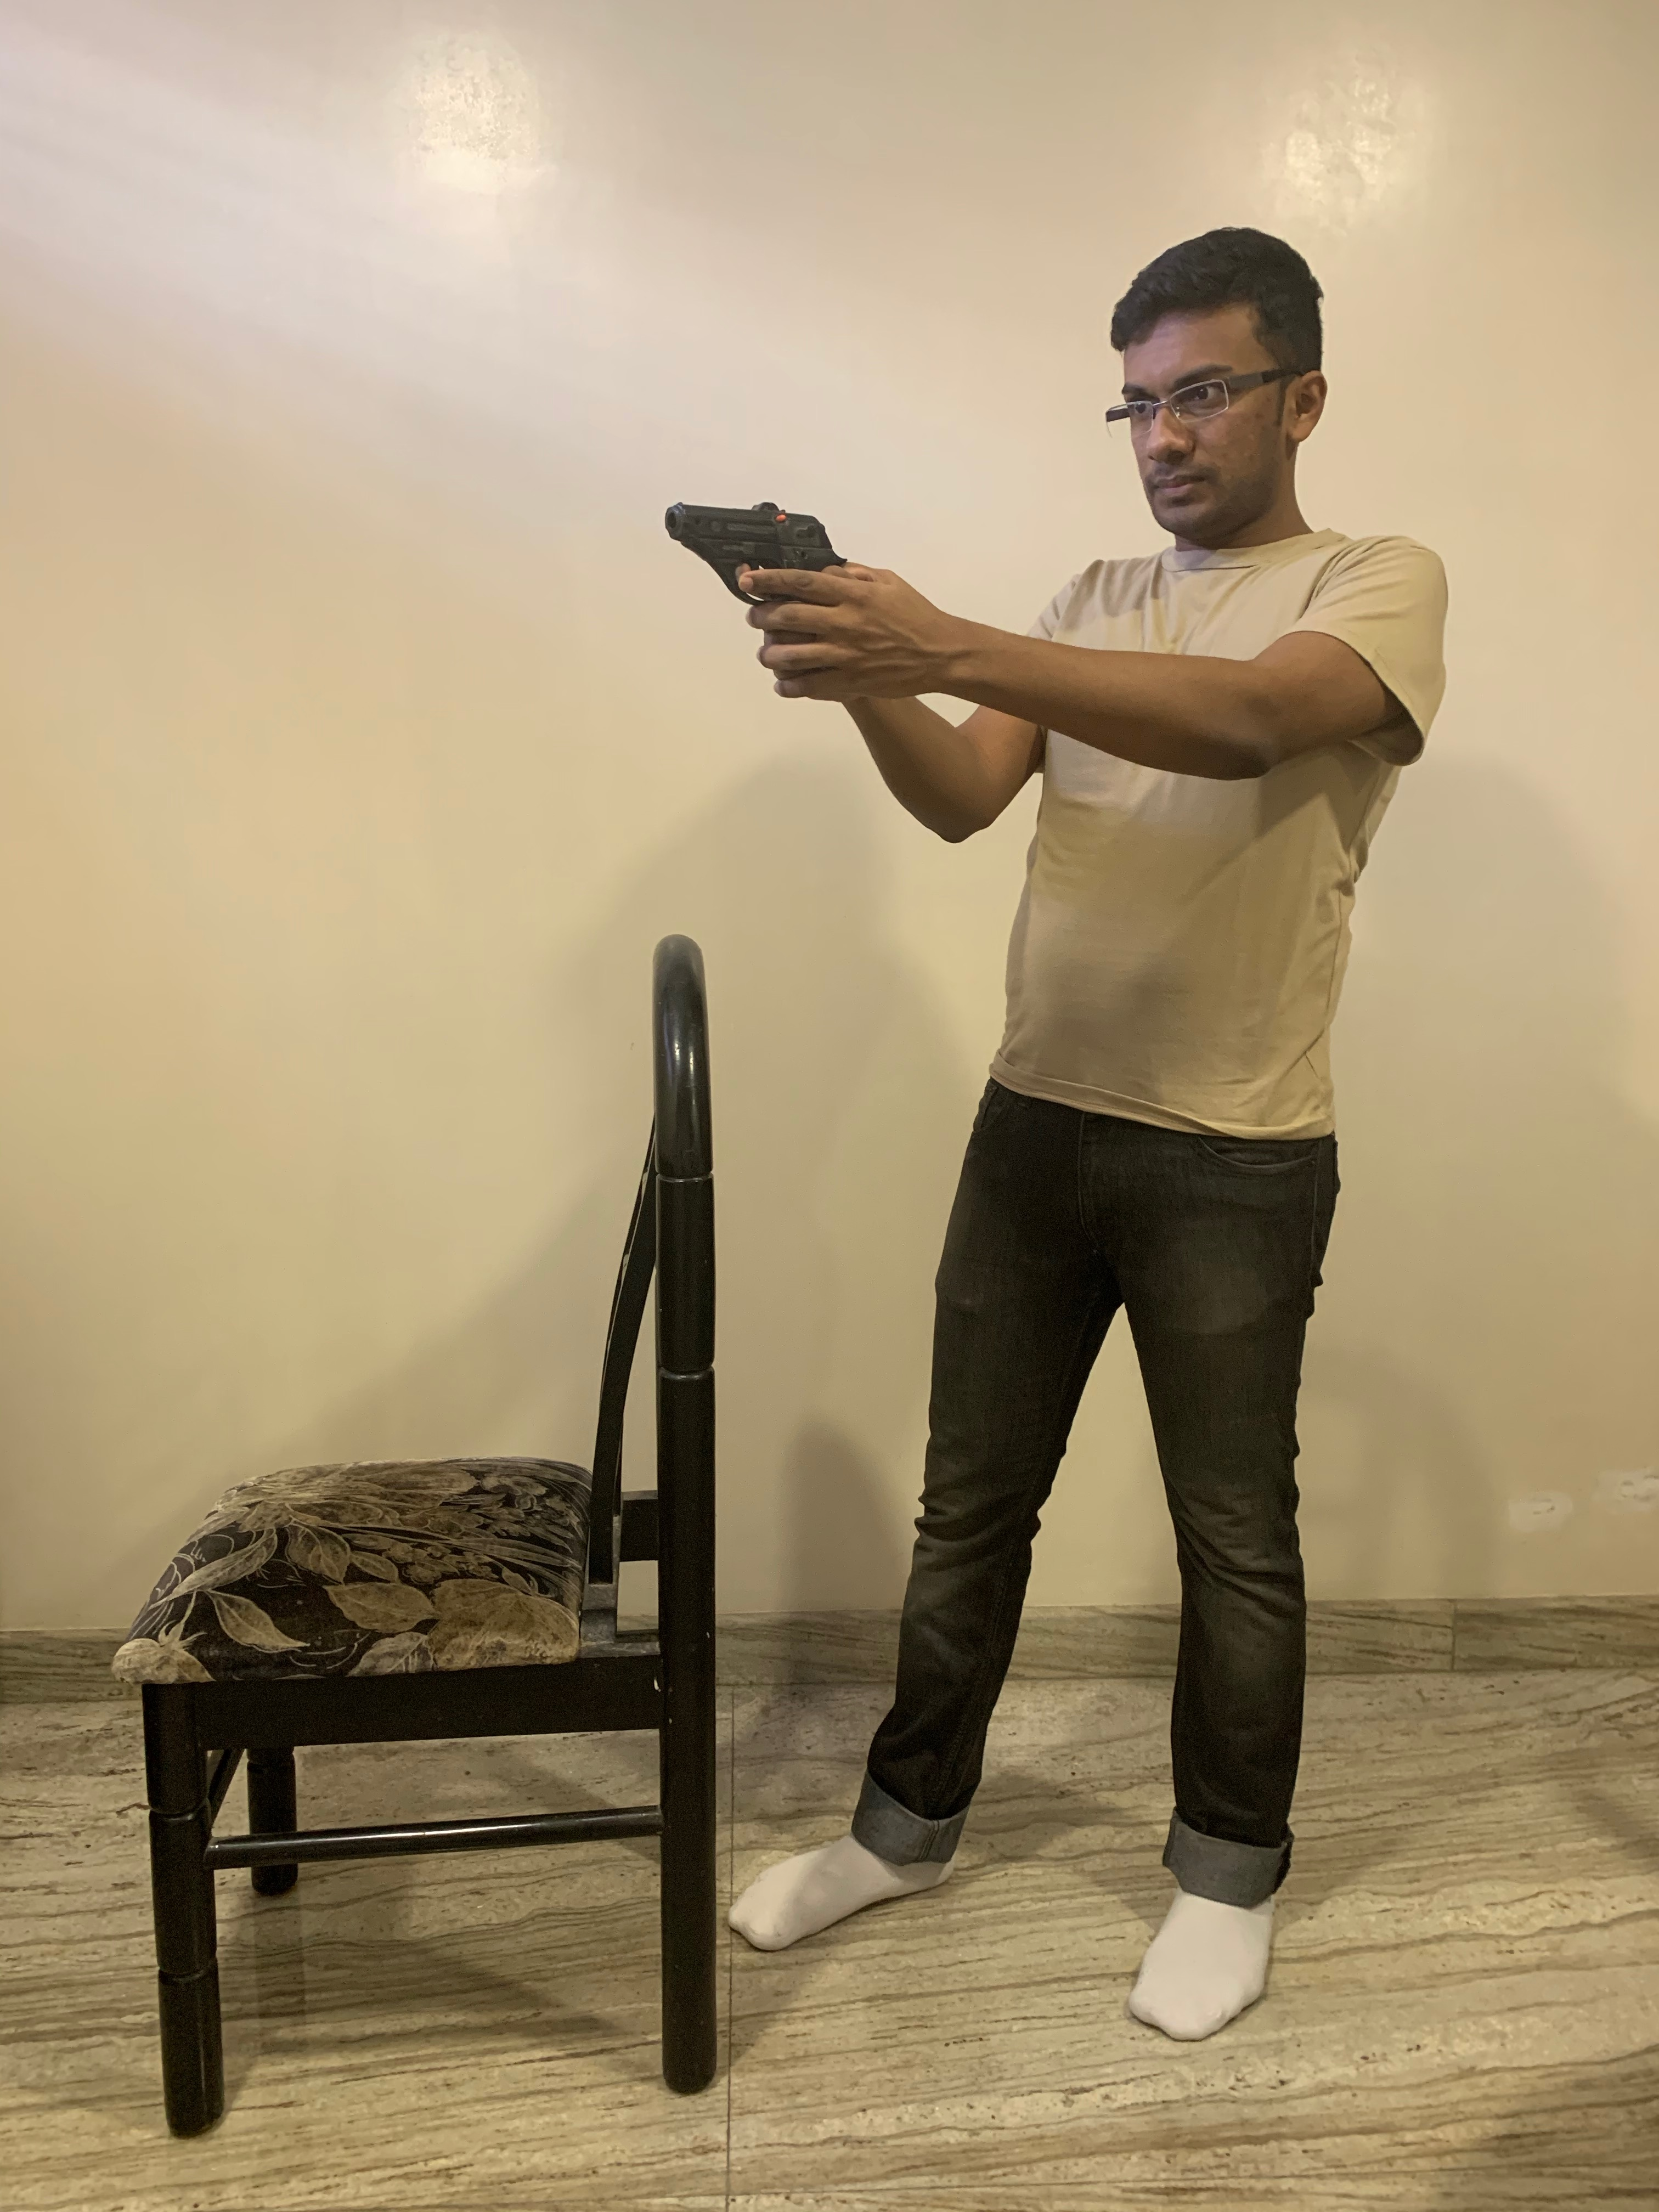gun: (662, 496, 845, 627)
